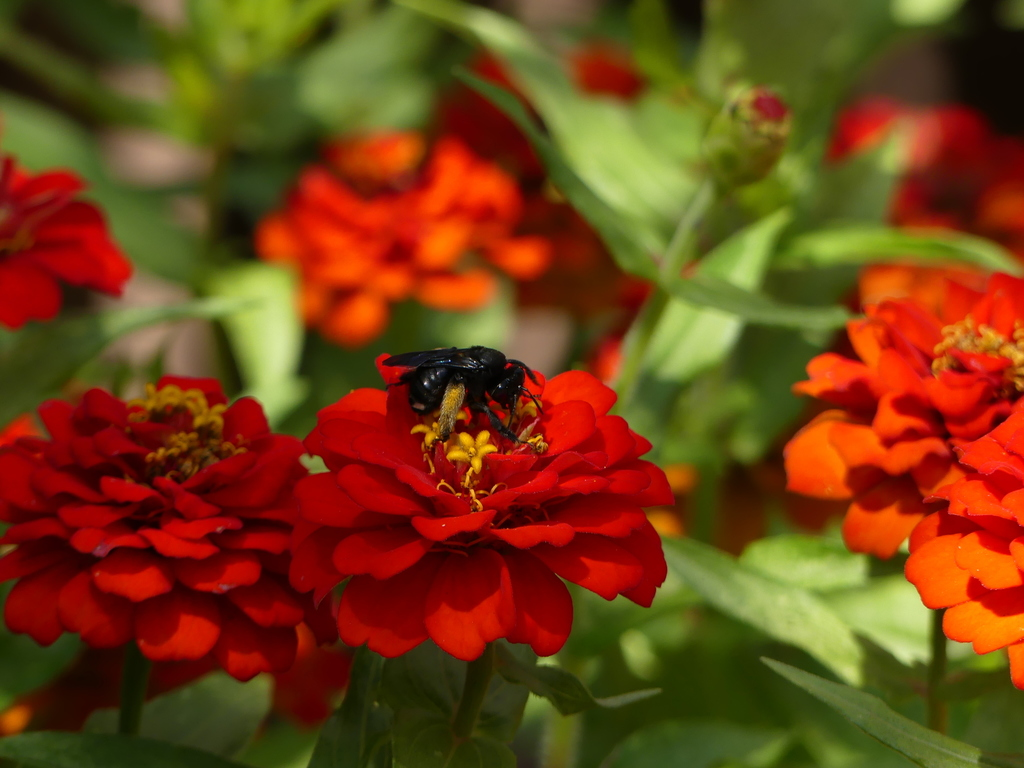not_bumblebee: (379, 345, 545, 446)
